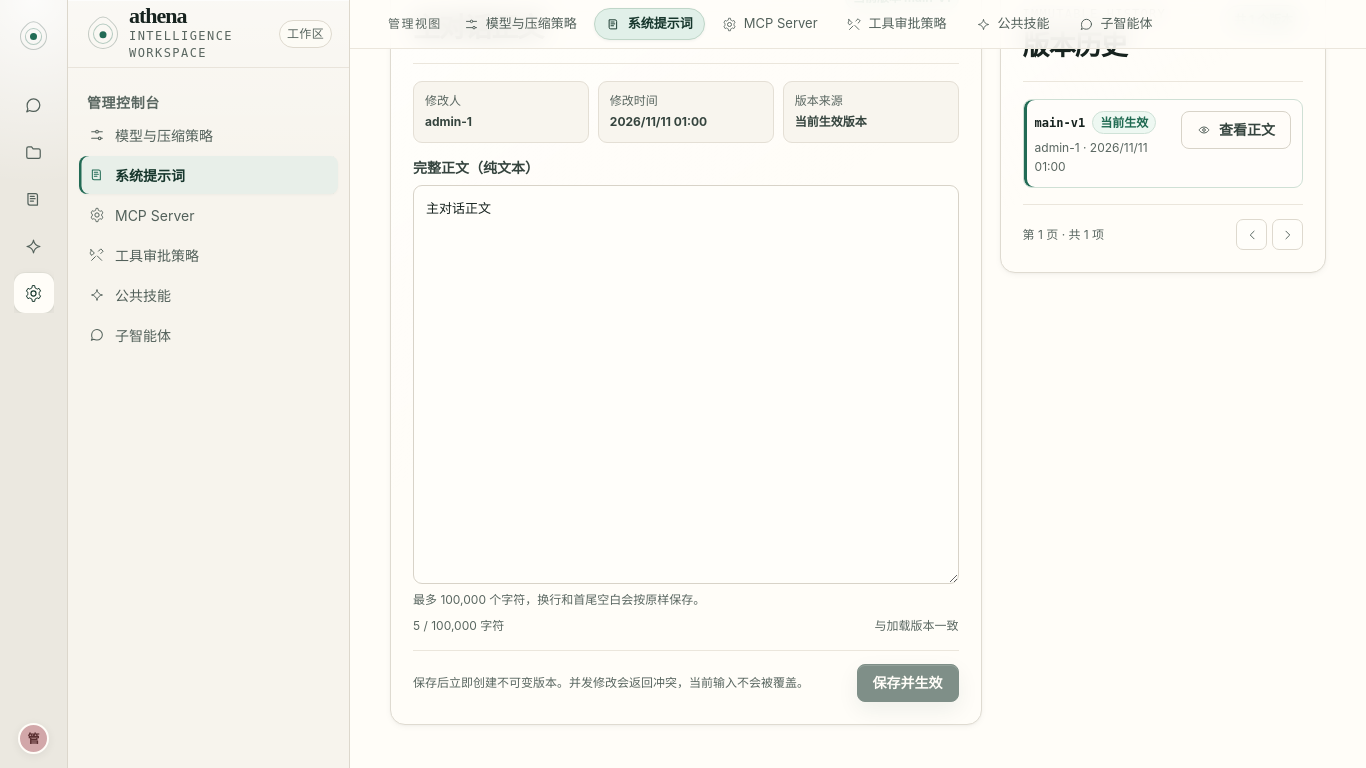
Scenario: 管理员系统提示词页 › 存在未保存正文时拦截站内离开，确认后才执行导航
(page scrolled)
Replace the text in the text box labelled "完整正文（纯文本） 最多 100,000 个字符，换行和首尾空白会按原样保存。" with "离开前必须确认的草稿" at (686, 384), box [413, 185, 959, 584]
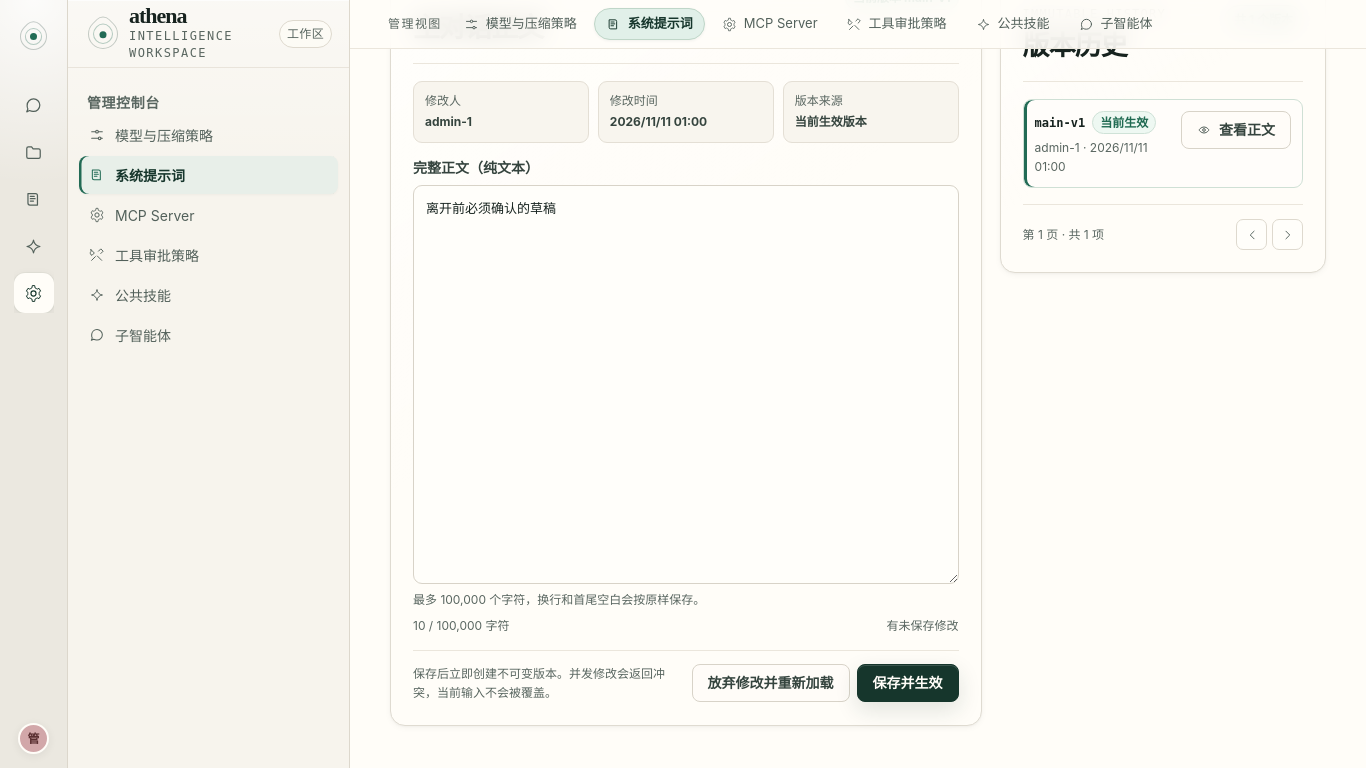
Click the button named "账户菜单" at (34, 738), box [18, 723, 49, 754]
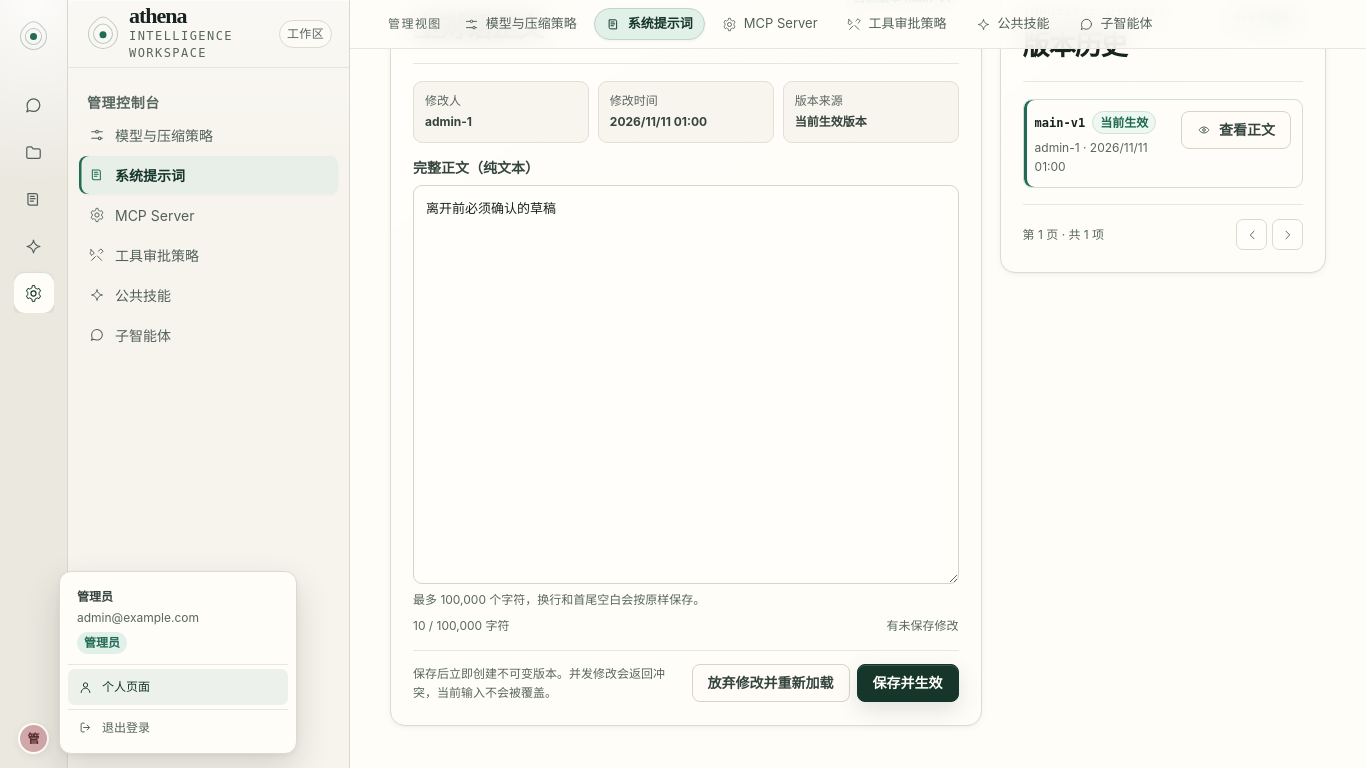
Click the menu item "个人页面" at (178, 687), box [68, 669, 288, 705]
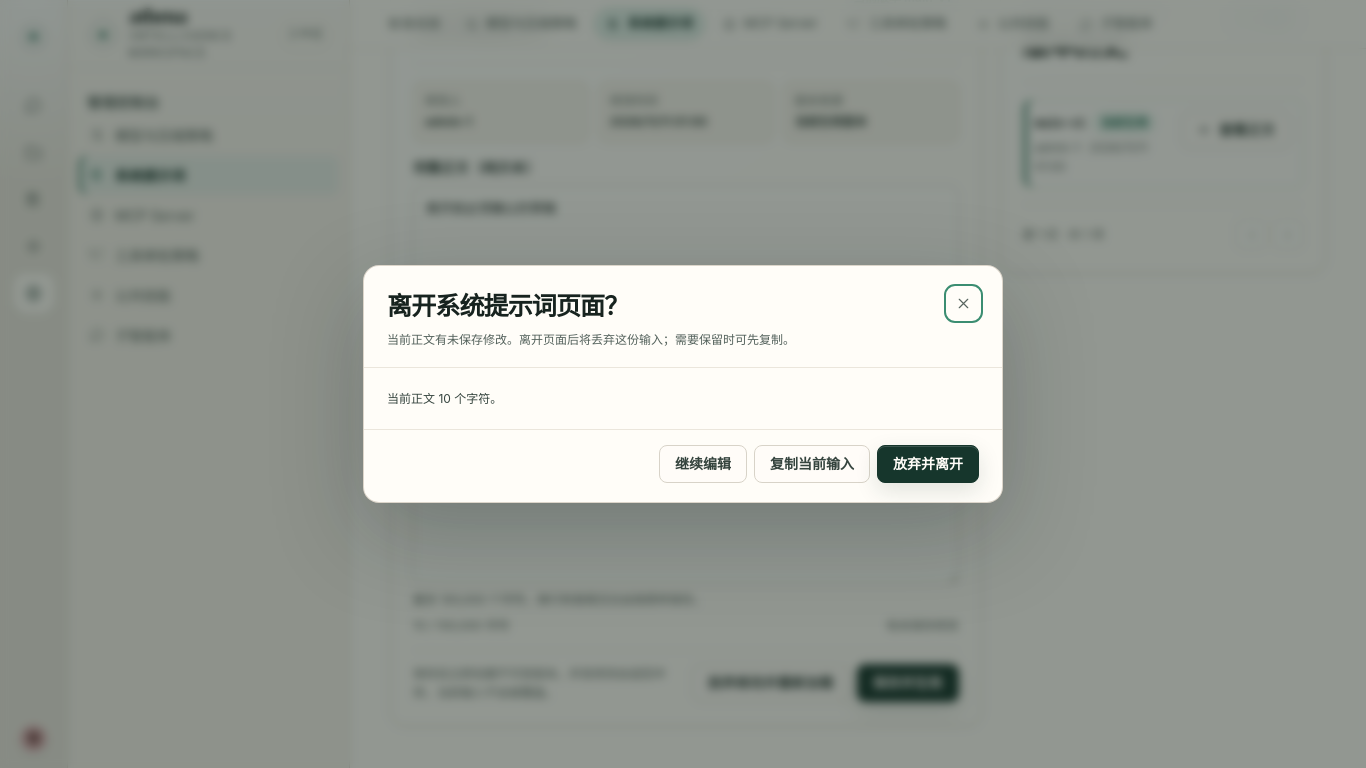
Now the heading "离开系统提示词页面？" is shown, box [387, 293, 628, 320]
Click the button "放弃并离开" at (928, 464), box [877, 445, 979, 483]
(page scrolled)
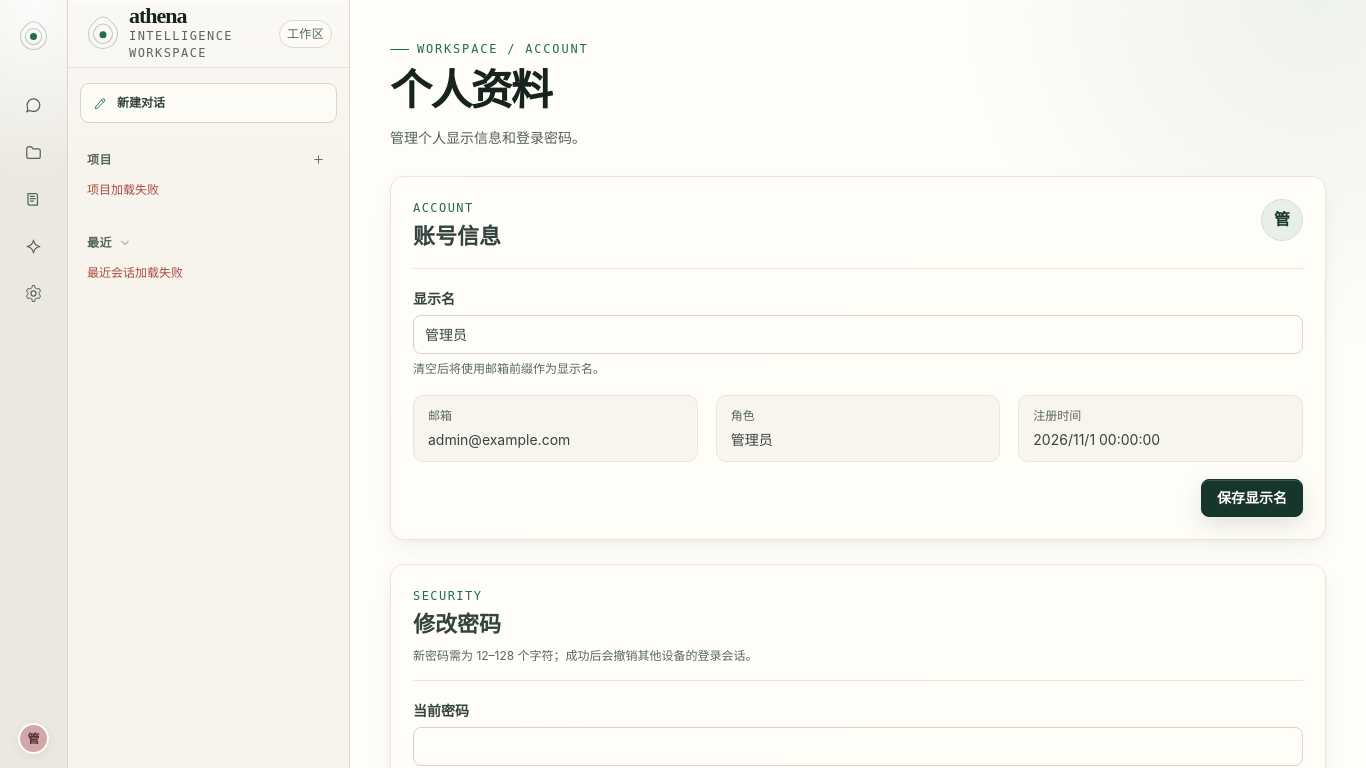
Now the heading "个人资料" is shown, box [390, 68, 551, 114]
